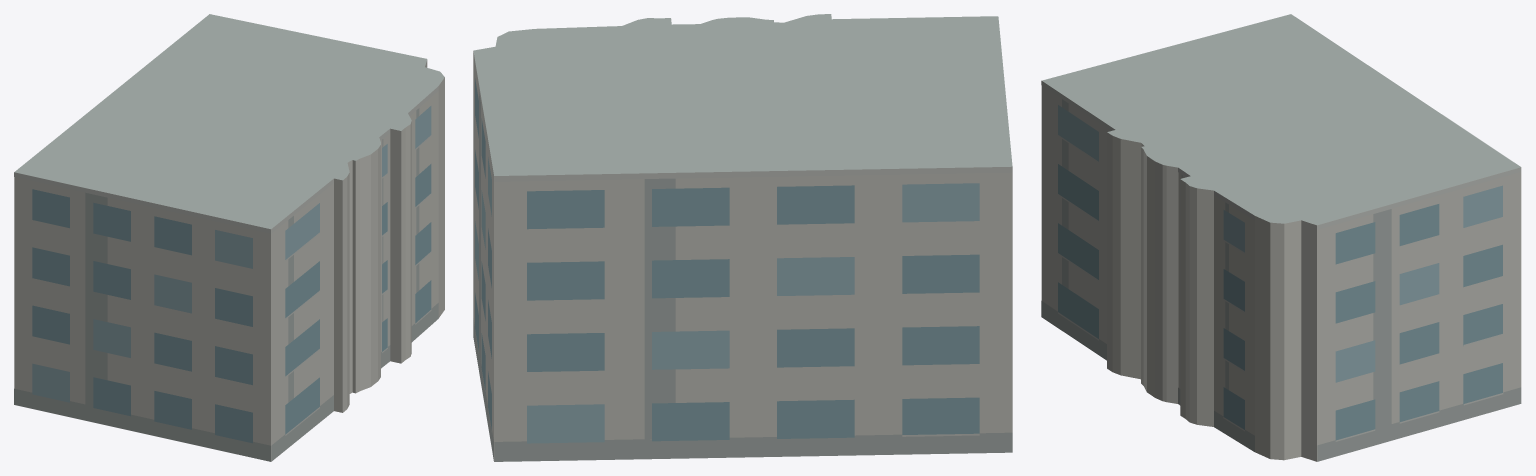
File: residential-560b4d0c-6391-4b68-ad5e-16d3460bc761.glb
The picture shows the model from 3 angles, left to right: view 1: azimuth 30°, elevation 25°; view 2: azimuth 150°, elevation 25°; view 3: azimuth 270°, elevation 25°; orthographic projection. The views are drawn at different scales.
Visible parts, largest first — view 1: residential-560b4d0c-6391-4b68-ad5e-16d3460bc761.tmp; view 2: residential-560b4d0c-6391-4b68-ad5e-16d3460bc761.tmp; view 3: residential-560b4d0c-6391-4b68-ad5e-16d3460bc761.tmp.
Boxes of the visible parts, x1,y1,x2,y2 form: residential-560b4d0c-6391-4b68-ad5e-16d3460bc761.tmp: (14, 14, 444, 461); residential-560b4d0c-6391-4b68-ad5e-16d3460bc761.tmp: (473, 14, 1012, 461); residential-560b4d0c-6391-4b68-ad5e-16d3460bc761.tmp: (1041, 14, 1521, 461).
Size of the model in its own units: 23.39 by 12.2 by 22.44.
